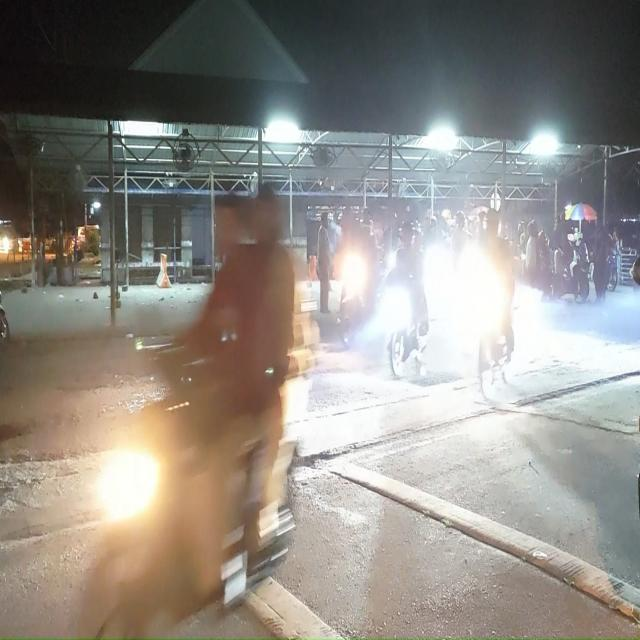Golongan II: (78, 345, 312, 638), (379, 268, 428, 378), (474, 258, 512, 386), (338, 252, 372, 347), (553, 244, 591, 303), (0, 292, 10, 345), (607, 250, 619, 292)
